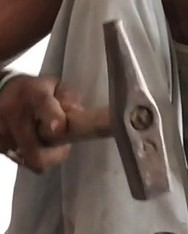hammer: (15, 17, 174, 203)
